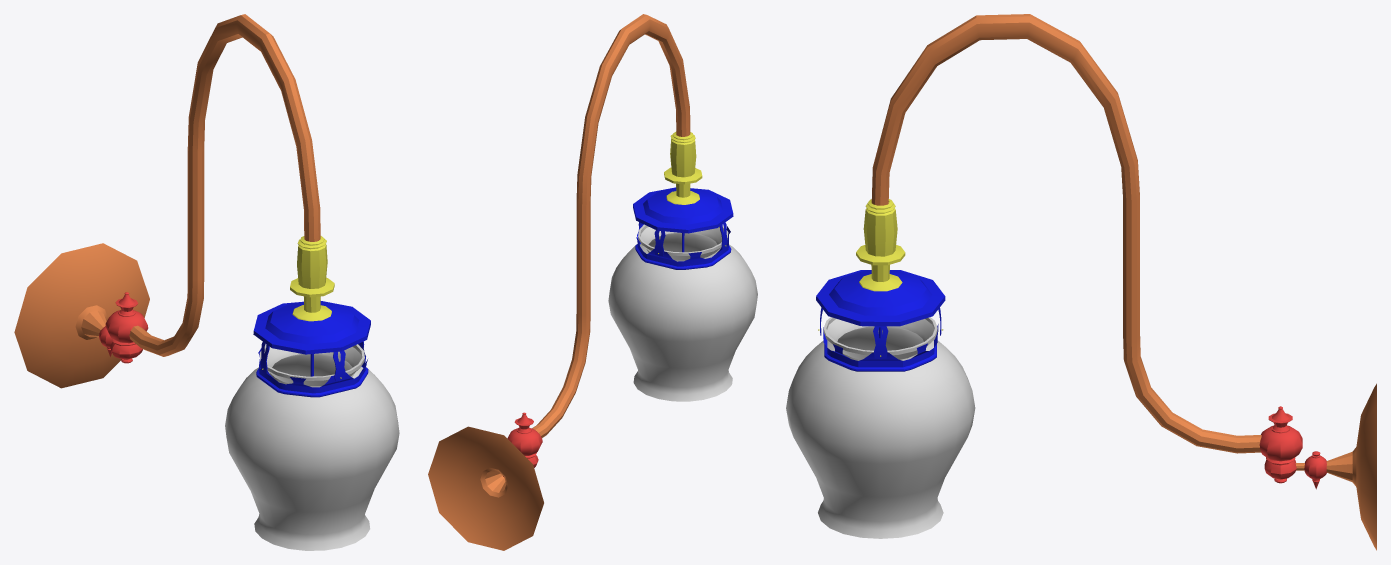
The model's file is LamaparaMuro.fbx.
3 views of the same model, side by side, from view 1: azimuth 30°, elevation 25°; view 2: azimuth 150°, elevation 25°; view 3: azimuth 270°, elevation 25° (orthographic). The views are drawn at different scales.
Parts seen in each view (by area): view 1: RustyWallLamp; view 2: RustyWallLamp; view 3: RustyWallLamp.
Boxes of the visible parts, <box> form: RustyWallLamp: <box>14,14,399,550</box>; RustyWallLamp: <box>428,14,757,550</box>; RustyWallLamp: <box>786,14,1376,550</box>.
Size of the model in its own units: 148 by 454 by 463.
